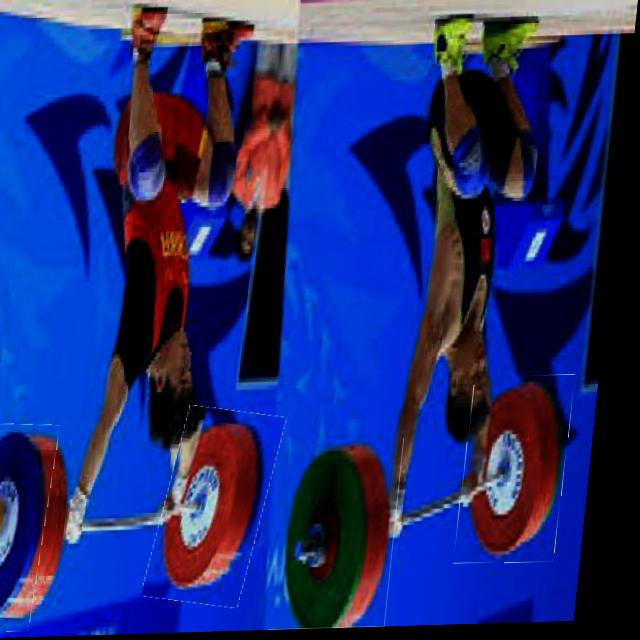barbell: (162, 408, 291, 609), (283, 442, 415, 633), (467, 378, 584, 568), (1, 424, 68, 634)
